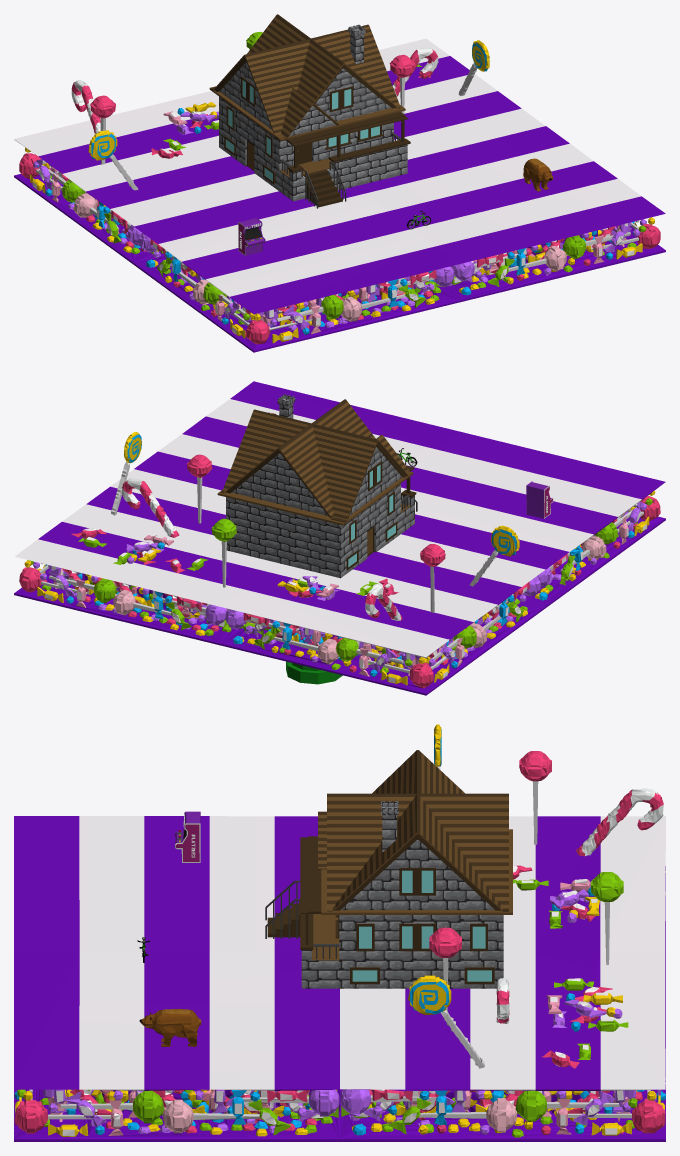
3 views of the same model, one above another, from view 1: azimuth 30°, elevation 25°; view 2: azimuth 150°, elevation 25°; view 3: azimuth 270°, elevation 25° (orthographic). The views are drawn at different scales.
Visible parts, largest first — view 1: TERRAIN_CANDY, Cube.586, OBJRANDOM_ARCADE, ANIMAL_OSO; view 2: TERRAIN_CANDY, Cube.586, OBJRANDOM_ARCADE, UNDERGROUND_PIPES; view 3: TERRAIN_CANDY, Cube.586, ANIMAL_OSO, OBJRANDOM_ARCADE.
Boxes of the visible parts, x1,y1,x2,y2 form: TERRAIN_CANDY: (14,31,665,352); Cube.586: (209,14,410,208); OBJRANDOM_ARCADE: (238,217,265,255); ANIMAL_OSO: (523,158,553,191); TERRAIN_CANDY: (14,381,665,695); Cube.586: (217,394,417,578); OBJRANDOM_ARCADE: (526,481,553,518); UNDERGROUND_PIPES: (286,661,342,684); TERRAIN_CANDY: (14,724,665,1141); Cube.586: (265,750,512,988); ANIMAL_OSO: (139,1009,201,1046); OBJRANDOM_ARCADE: (175,811,200,862).
Size of the model in its own units: 4059 by 2177 by 4000.
28 materials, 3 textured.
